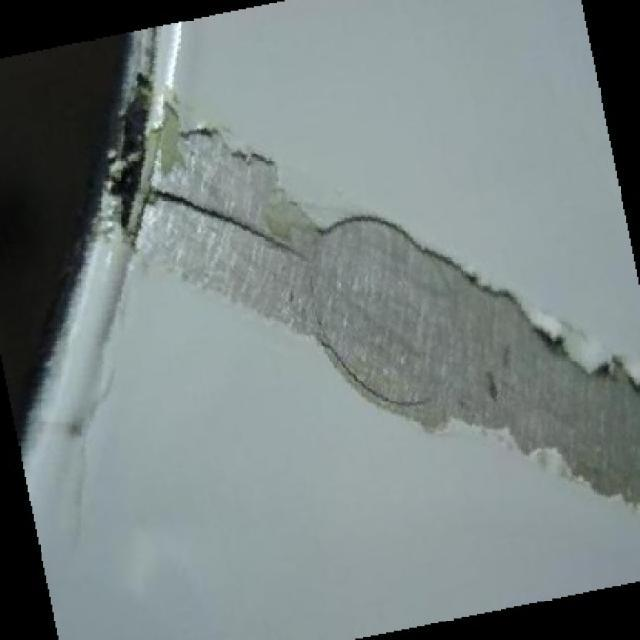crack: (226, 218, 303, 255), (149, 189, 222, 215)
